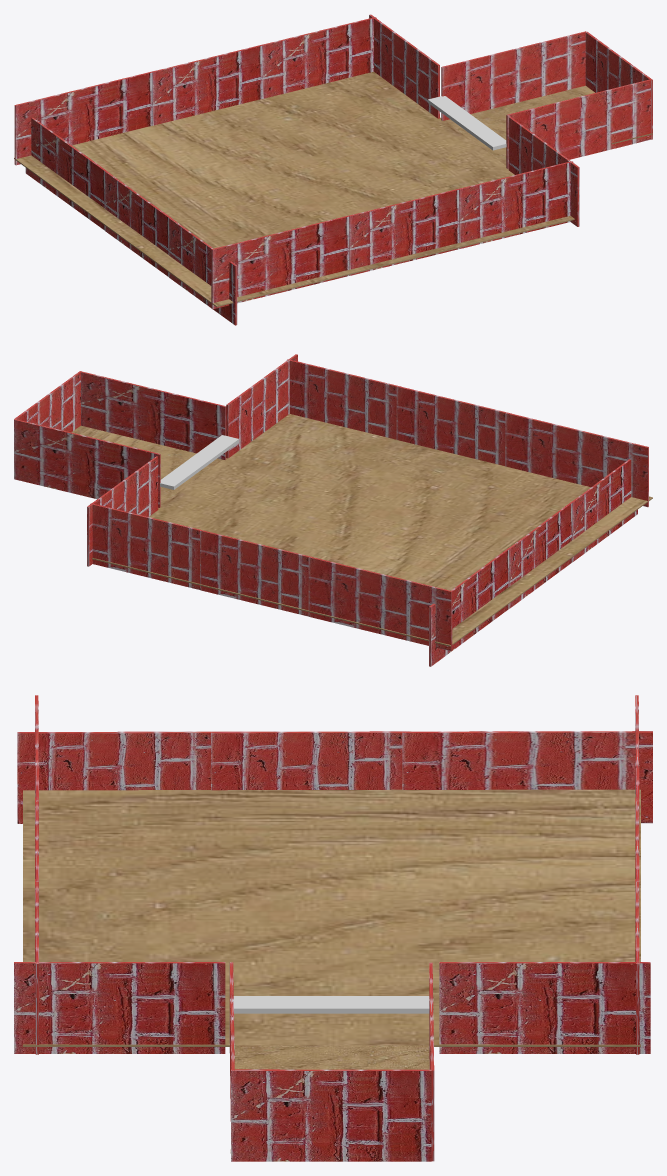
File: jedalen2.glb
3 renders of one model, top to bottom at view 1: azimuth 30°, elevation 25°; view 2: azimuth 150°, elevation 25°; view 3: azimuth 270°, elevation 25°, orthographic. The views are drawn at different scales.
Parts seen in each view (by area): view 1: Cube, Cube.011, Cube.006, Cube.005, Cube.010, Cube.013, Cube.012, Cube.003, Cube.009, Cube.002, Cube.016, Cube.015 (+5 smaller); view 2: Cube, Cube.010, Cube.005, Cube.006, Cube.011, Cube.009, Cube.003, Cube.012, Cube.013, Cube.001, Cube.016, Cube.015 (+5 smaller); view 3: Cube, Cube.002, Cube.001, Cube.007, Cube.016, Cube.014, Cube.015, Cube.008, Cube.004, Cube.006, Cube.003, Cube.013.
Part boxes in pixels (x1,y1,x2,y2): Cube: [14, 71, 574, 306]; Cube.011: [211, 214, 354, 309]; Cube.006: [441, 31, 586, 120]; Cube.005: [506, 79, 650, 168]; Cube.010: [14, 70, 156, 165]; Cube.013: [459, 161, 573, 248]; Cube.012: [349, 188, 462, 275]; Cube.003: [262, 17, 376, 98]; Cube.009: [152, 44, 265, 125]; Cube.002: [369, 14, 439, 118]; Cube.016: [25, 117, 109, 230]; Cube.015: [105, 171, 172, 276]; Cube: [92, 414, 652, 646]; Cube.010: [308, 557, 452, 651]; Cube.005: [80, 371, 226, 459]; Cube.006: [14, 419, 160, 507]; Cube.011: [505, 412, 648, 507]; Cube.009: [200, 530, 314, 616]; Cube.003: [90, 503, 204, 589]; Cube.012: [396, 386, 511, 465]; Cube.013: [286, 359, 400, 439]; Cube.001: [226, 354, 297, 458]; Cube.016: [429, 546, 511, 666]; Cube.015: [509, 501, 572, 608]; Cube: [23, 789, 640, 1046]; Cube.002: [439, 962, 650, 1053]; Cube.001: [14, 962, 225, 1053]; Cube.007: [231, 1069, 431, 1161]; Cube.016: [402, 731, 652, 823]; Cube.014: [17, 731, 217, 823]; Cube.015: [211, 731, 411, 790]; Cube.008: [230, 1045, 429, 1153]; Cube.004: [233, 996, 429, 1013]; Cube.006: [429, 962, 434, 1161]; Cube.003: [635, 879, 639, 1054]; Cube.013: [35, 879, 38, 1054].
Size of the model in its own units: 60.07 by 8.57 by 43.16.
16 materials, 16 textured.
